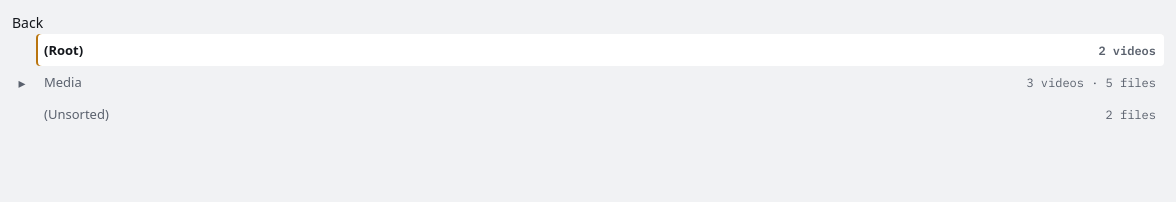
it: FolderTree › hides children until a branch is expanded, then shows them
Check: the list item "Movies" is not shown
Click the button named "Expand Media": coordinates (22, 82) 12,72 -> 32,92
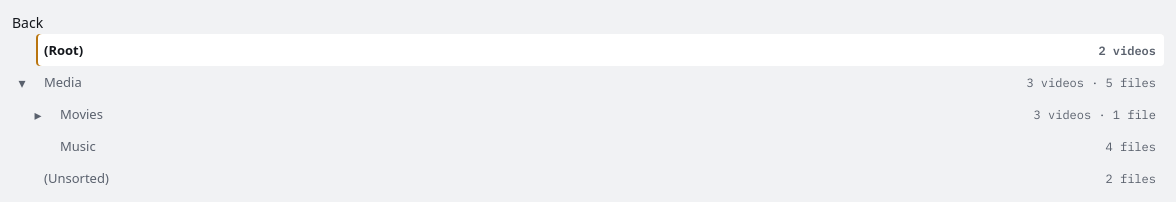
Check: the list item "▸ Movies 3 videos · 1 file" is shown, box 12,98 -> 1164,130
